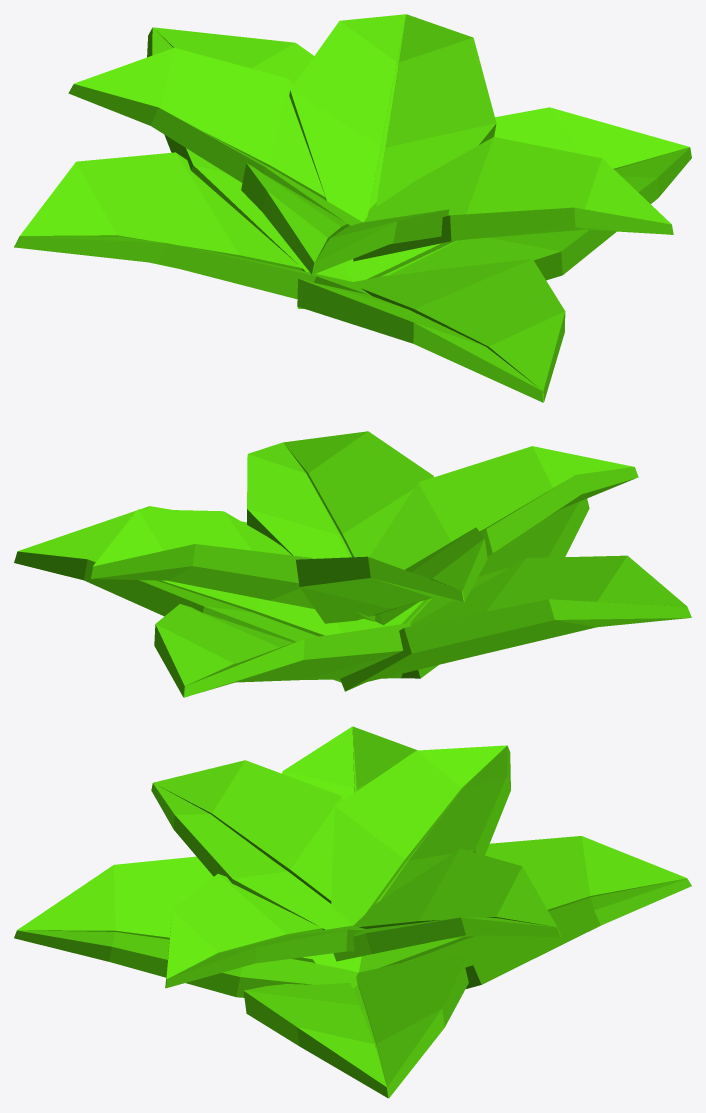
File: veg_04.fbx
3 views of the same model, one above another, from view 1: azimuth 30°, elevation 25°; view 2: azimuth 150°, elevation 25°; view 3: azimuth 270°, elevation 25° (orthographic). The views are drawn at different scales.
Parts seen in each view (by area): view 1: veg_04; view 2: veg_04; view 3: veg_04.
Boxes of the visible parts, <box> form: veg_04: <box>14,14,691,402</box>; veg_04: <box>14,431,691,697</box>; veg_04: <box>14,726,691,1098</box>.
Size of the model in its own units: 3.35 by 0.9989 by 3.37.
